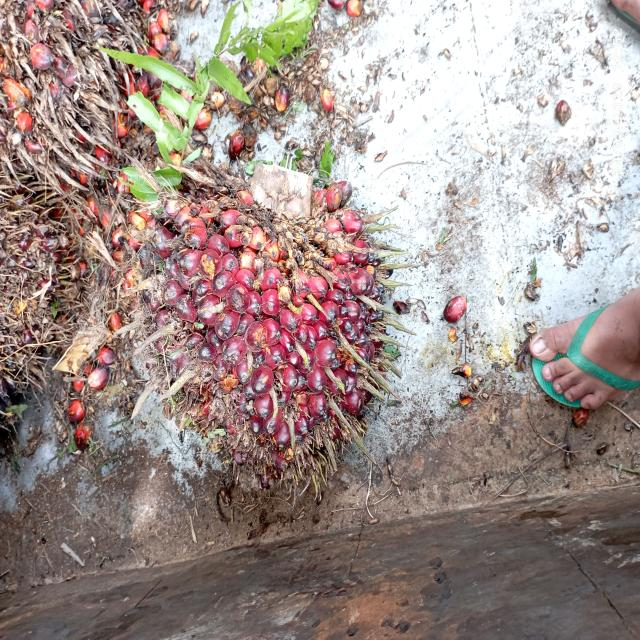fraksi 3: (119, 114, 422, 516)
